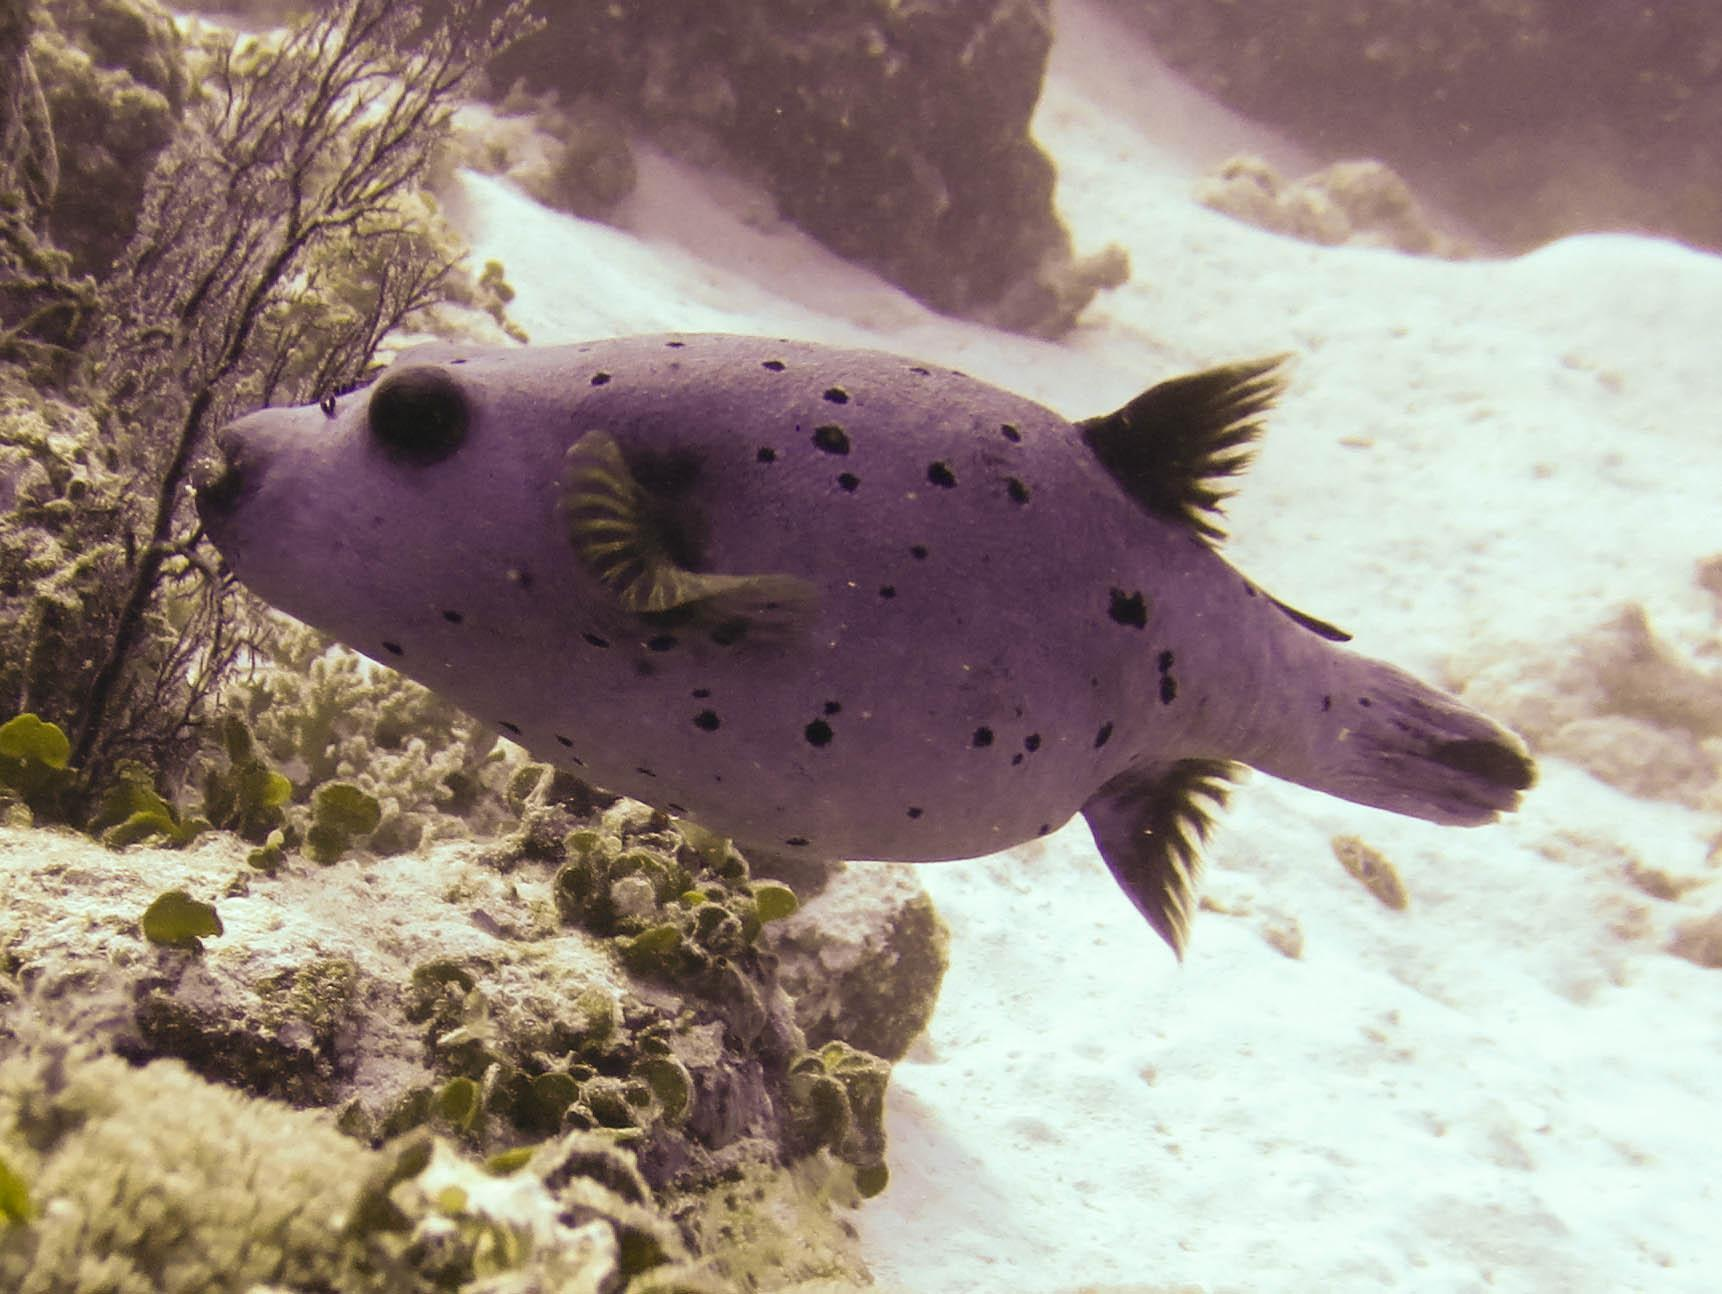Fish: (190, 288, 1575, 965)
